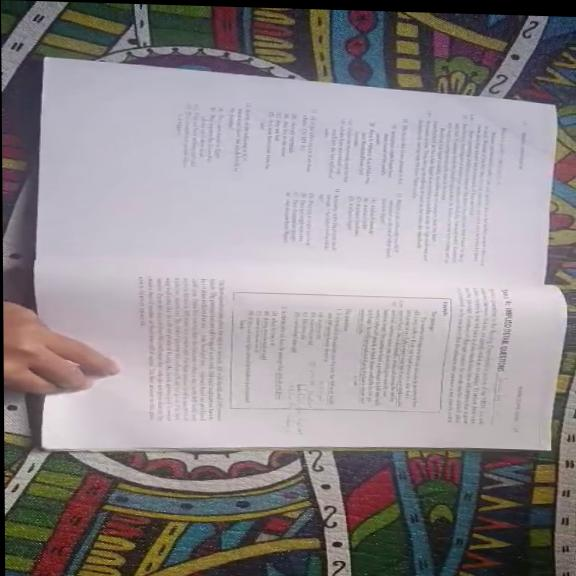Kertas: (36, 59, 554, 283), (37, 271, 563, 449)
